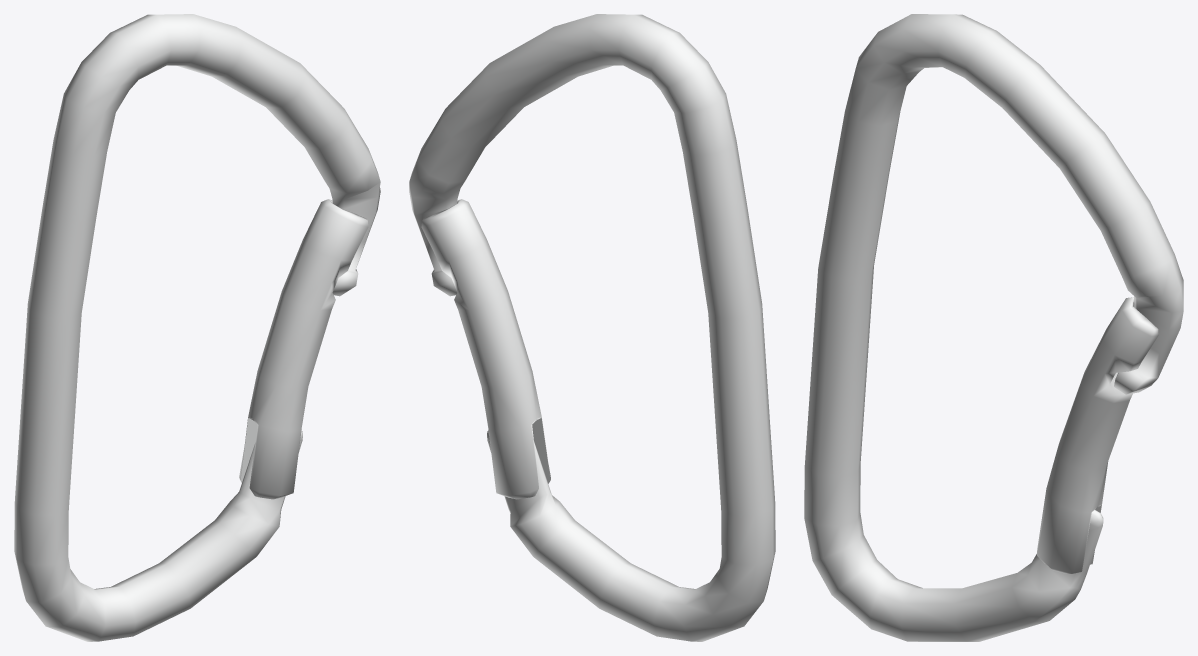
The model's file is Carabiner.fbx.
The picture shows the model from 3 angles, left to right: view 1: azimuth 30°, elevation 25°; view 2: azimuth 150°, elevation 25°; view 3: azimuth 330°, elevation 25°; orthographic projection. The views are drawn at different scales.
Parts seen in each view (by area): view 1: Carabiner; view 2: Carabiner; view 3: Carabiner.
Part boxes in pixels (box(x1,y1,x2,y2)): Carabiner: box(14, 14, 380, 641); Carabiner: box(409, 14, 775, 641); Carabiner: box(804, 14, 1183, 641).
Bounding box in the file's own units: 0.0162 × 0.0261 × 0.00222.
Materials: 1 (1 with a texture image).
